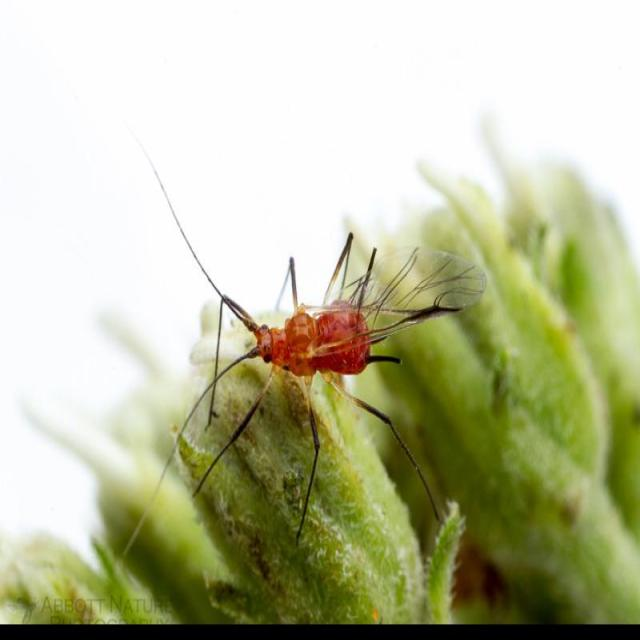Aphids: (155, 200, 469, 552)
